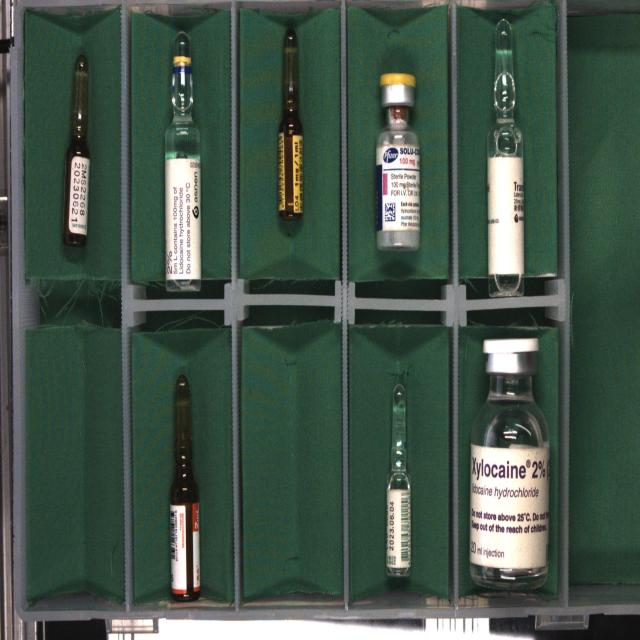Vials: (469, 338, 549, 588), (376, 73, 419, 250)
